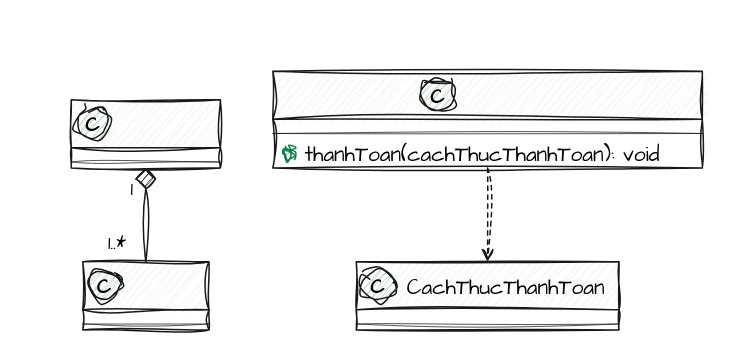
Some shapes in this 729 by 356 pixel diagram are drawn without their labels. The shapes that lost their labels are listed below. From the top down, each one's box as (x1, y1, x2, y2) in pixels, then its label:
(70, 98, 220, 168): ChuyenXe
(271, 70, 702, 168): DonHang
(81, 260, 209, 330): LoTrinh
